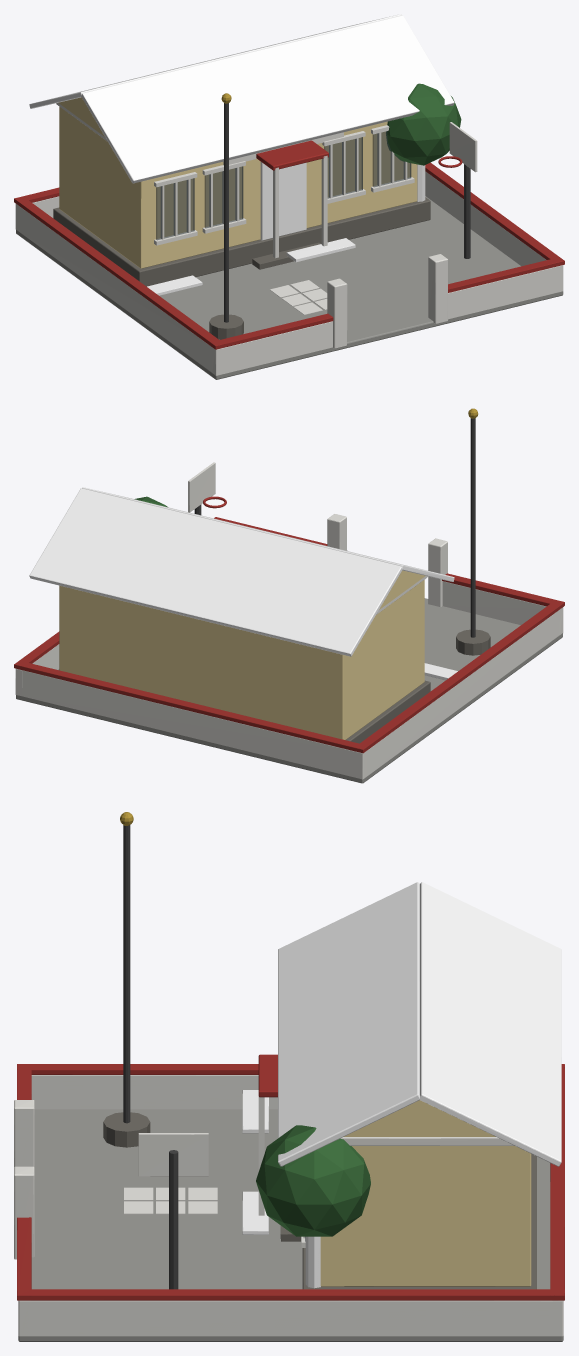
File: okul.glb
The picture shows the model from 3 angles, top to bottom: view 1: azimuth 30°, elevation 25°; view 2: azimuth 150°, elevation 25°; view 3: azimuth 270°, elevation 25°; orthographic projection. The views are drawn at different scales.
Visible parts, largest first — view 1: AgacGovde; view 2: AgacGovde; view 3: AgacGovde.
Part boxes in pixels (<box>): AgacGovde: <box>14,14,564,379</box>; AgacGovde: <box>14,408,564,783</box>; AgacGovde: <box>14,812,564,1341</box>.
Bounding box in the file's own units: 0.9947 × 0.667 × 1.
